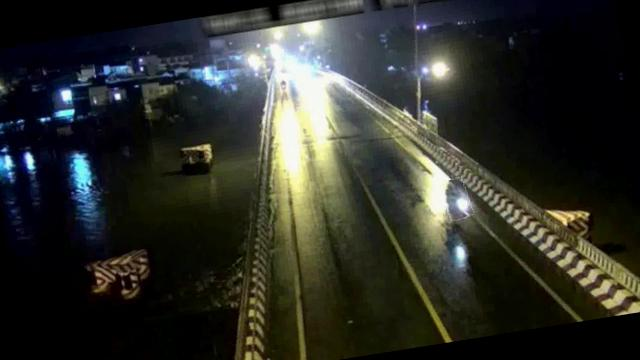Bike: (440, 176, 473, 222)
